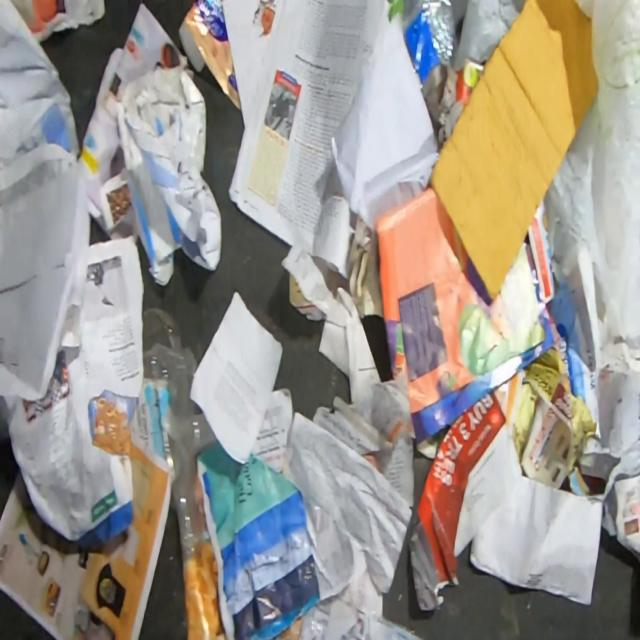cardboard: (428, 0, 600, 301), (106, 64, 222, 288)
soft_plastic: (545, 0, 640, 349), (142, 305, 218, 563), (399, 0, 460, 92)
